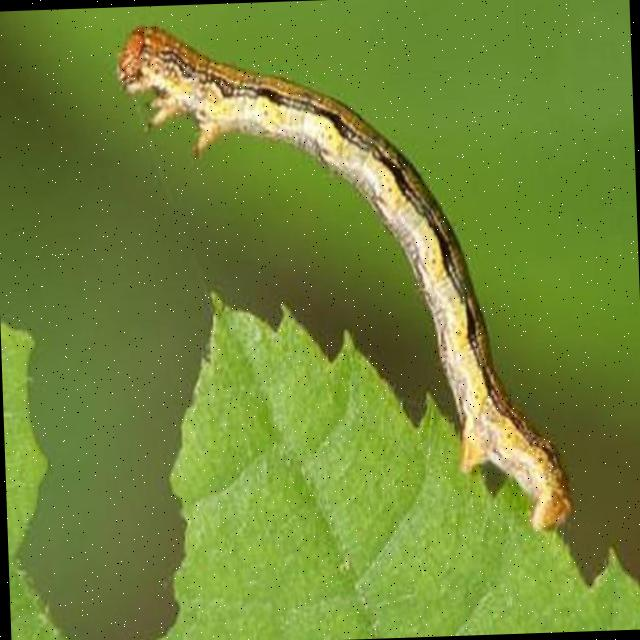worm: (114, 12, 575, 550)
